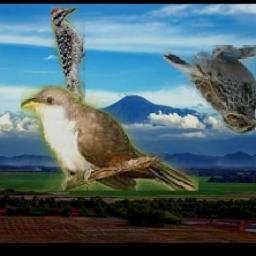Cuckoo: (21, 86, 198, 192)
Sparrow: (163, 45, 256, 135)
Woodpecker: (51, 7, 85, 117)
